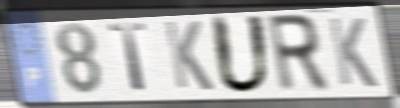8: (52, 17, 104, 98)
K: (325, 15, 380, 90), (161, 18, 216, 93)
R: (264, 12, 333, 96)
T: (106, 20, 151, 93)
U: (208, 14, 275, 97)
